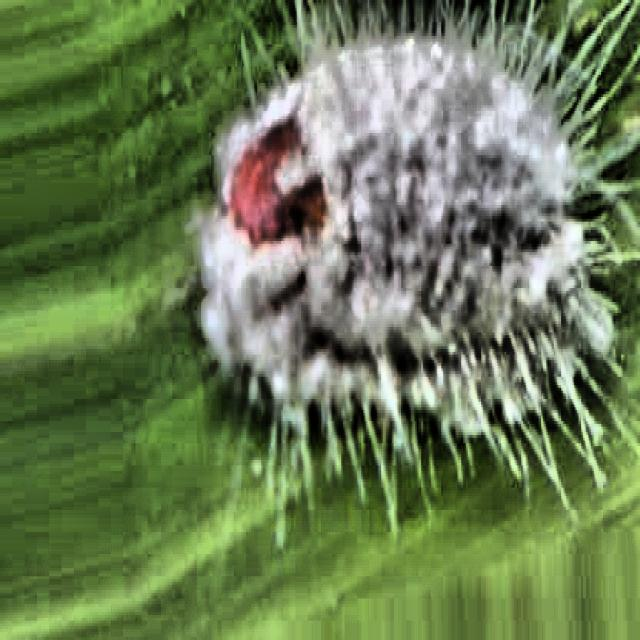Mealy-bug: (164, 3, 640, 516)
